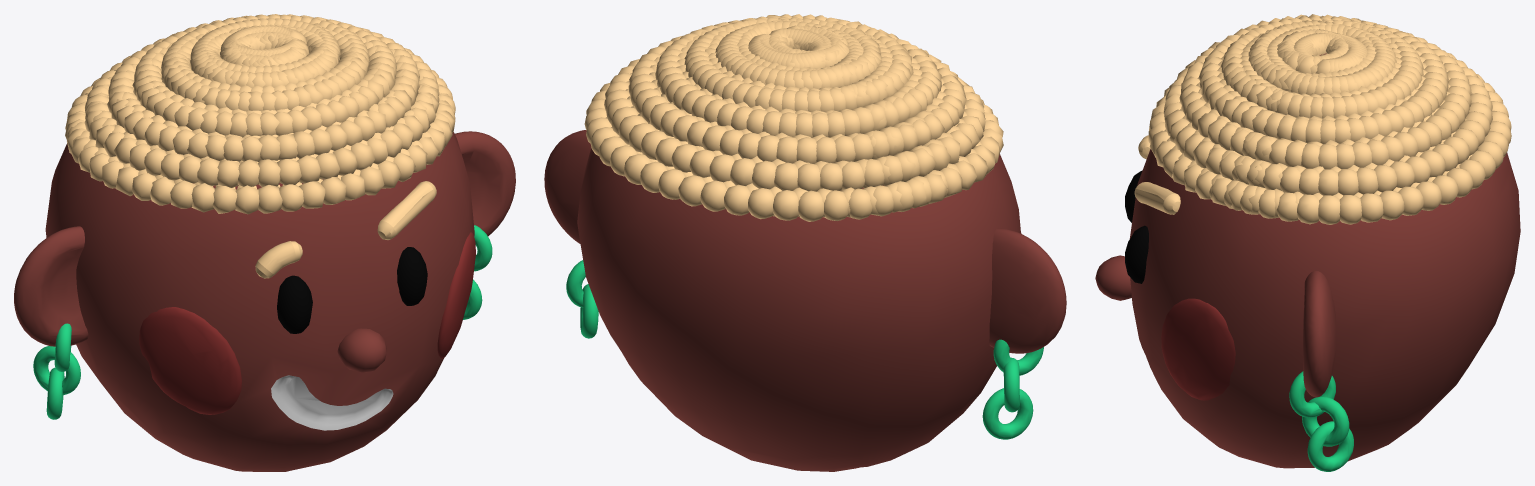
3 views of the same model, side by side, from view 1: azimuth 30°, elevation 25°; view 2: azimuth 150°, elevation 25°; view 3: azimuth 270°, elevation 25° (orthographic). The views are drawn at different scales.
Visible parts, largest first — view 1: Face_5.001, Sphere_2.001, Eye_L_4.001; view 2: Face_5.001, Sphere_2.001; view 3: Face_5.001, Sphere_2.001, Eye_L_4.001.
Boxes of the visible parts, left/top/right/bottom form: Face_5.001: left=14, top=23, right=515, bottom=471; Sphere_2.001: left=65, top=14, right=455, bottom=189; Eye_L_4.001: left=277, top=247, right=427, bottom=333; Face_5.001: left=544, top=14, right=1066, bottom=471; Sphere_2.001: left=584, top=17, right=985, bottom=221; Face_5.001: left=1095, top=14, right=1520, bottom=471; Sphere_2.001: left=1164, top=19, right=1511, bottom=224; Eye_L_4.001: left=1125, top=170, right=1148, bottom=283.
Bounding box in the file's own units: 2.72 × 2.11 × 2.
